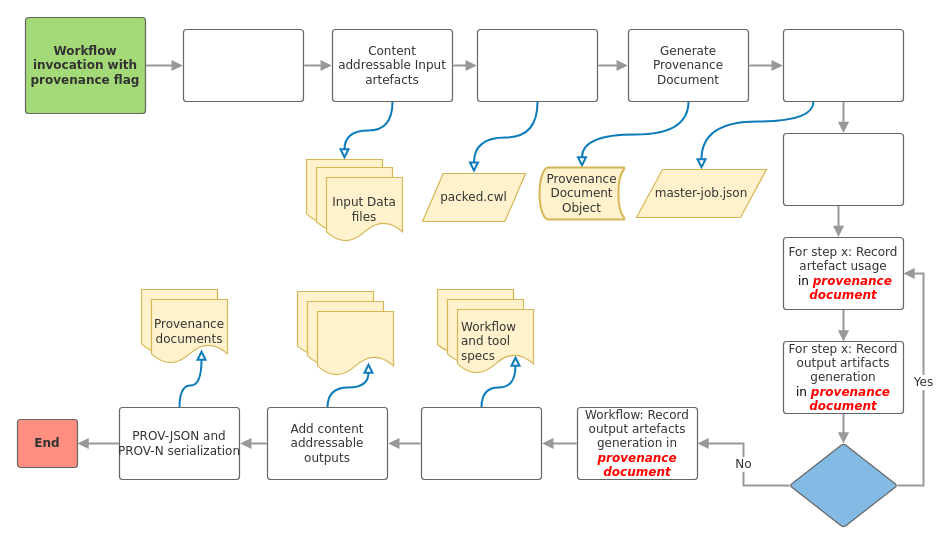
Image size: 951x546. Some labels were removed from this diagram. Here are the shapes that lost their labels. From the top down, the centre of each, then its label:
At point 243,65: "Create Research Object".
At point 537,65: "Pack workflow and tool specs".
At point 843,65: "Create relativised file paths for inputs".
At point 843,169: "Declare artifacts in provenance document".
At point 355,343: "Output Data files".
At point 481,443: "Snapshot generation".
At point 843,485: "Steps remaining?".
